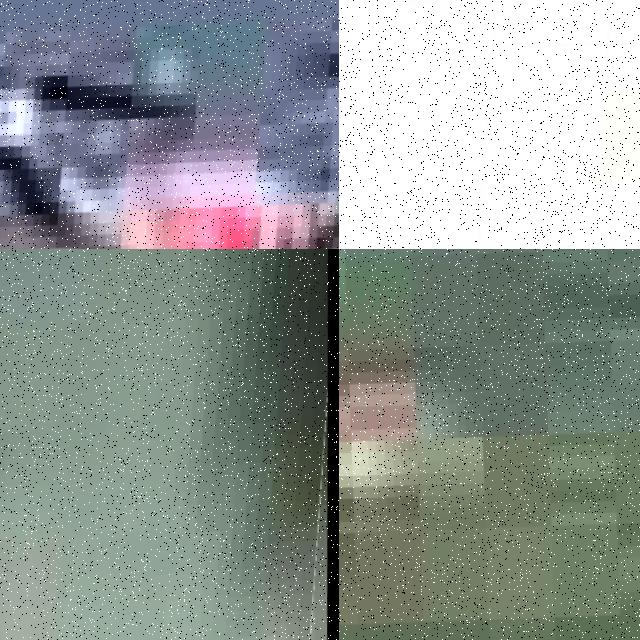drone: (0, 249, 339, 640), (0, 0, 339, 249), (339, 0, 640, 249)
